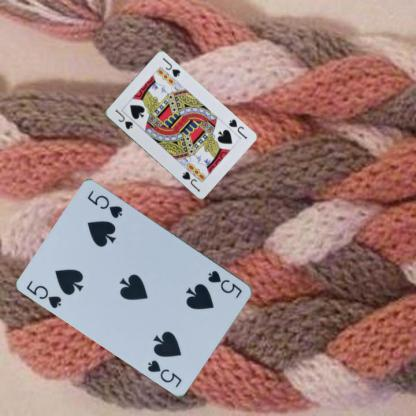5s: (24, 277, 63, 310), (206, 268, 244, 300)
Js: (112, 106, 134, 131), (226, 116, 248, 141)
